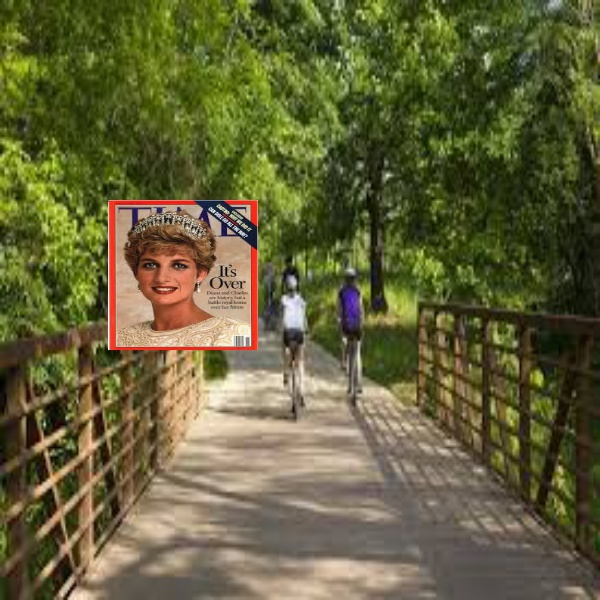time_cover: (104, 196, 258, 354)
